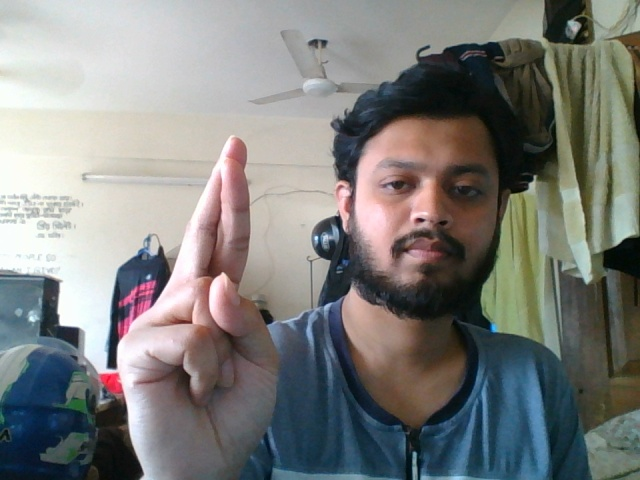r: (115, 128, 287, 480)
